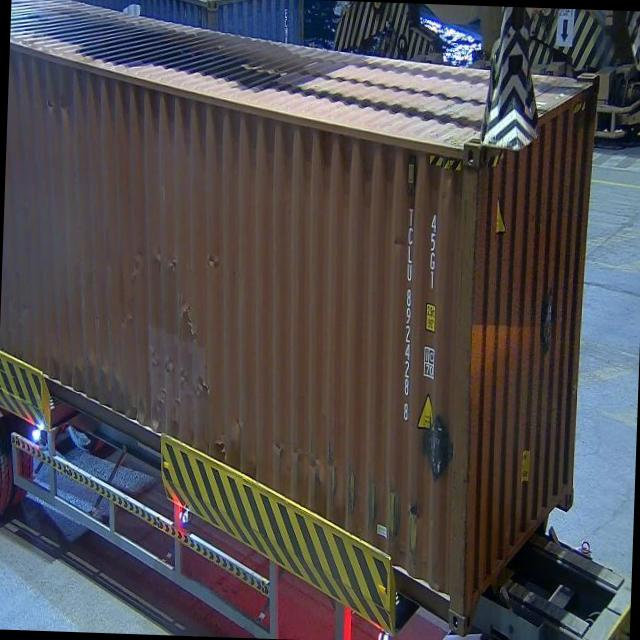Deframe_or_Dent: (144, 240, 202, 342), (151, 351, 211, 401), (204, 412, 231, 470), (203, 241, 221, 277)
Hole: (401, 483, 428, 558)
